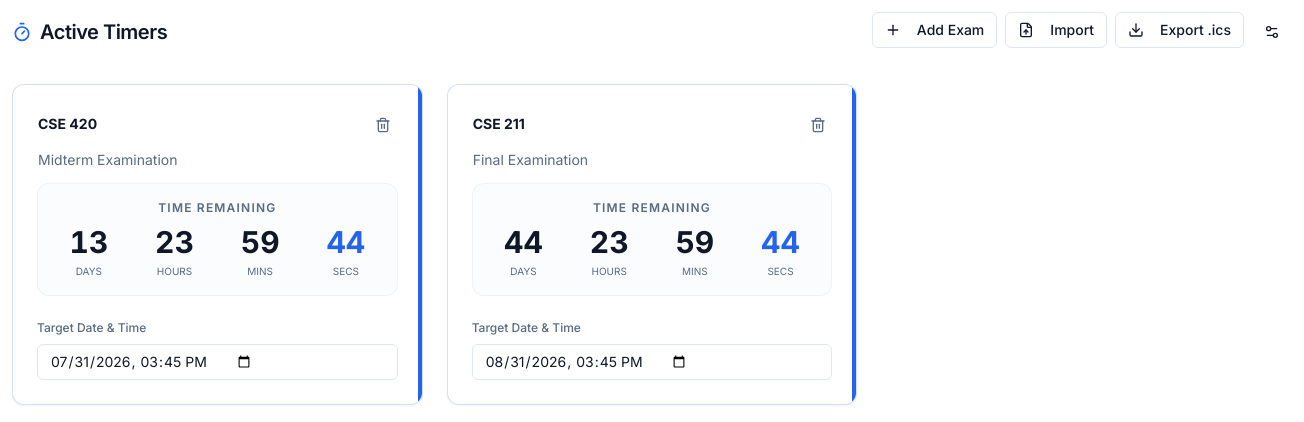
Scenario: ExamCountdown › adds a new exam card
This screenshot has width=1304, height=422.
Click the button "Add Exam".
click(935, 30)  # box [872, 12, 997, 48]
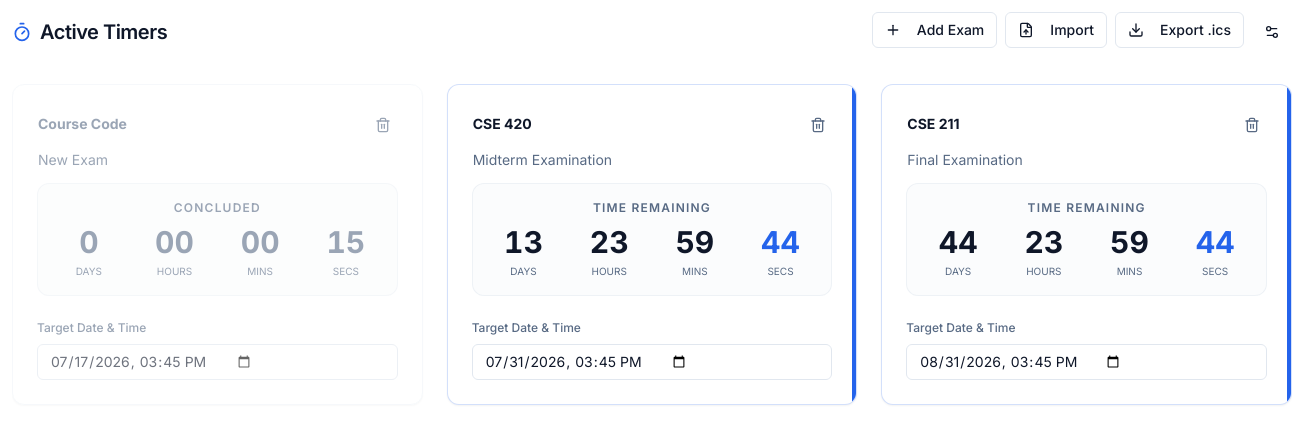
Expected: the field showing "New Exam" is shown, [37, 147, 398, 171]
